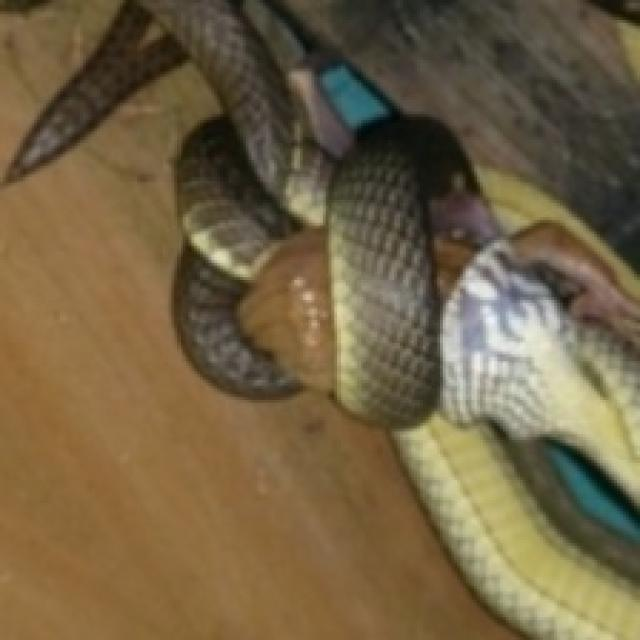paradise tree snake: (0, 63, 514, 637), (0, 0, 117, 177)
